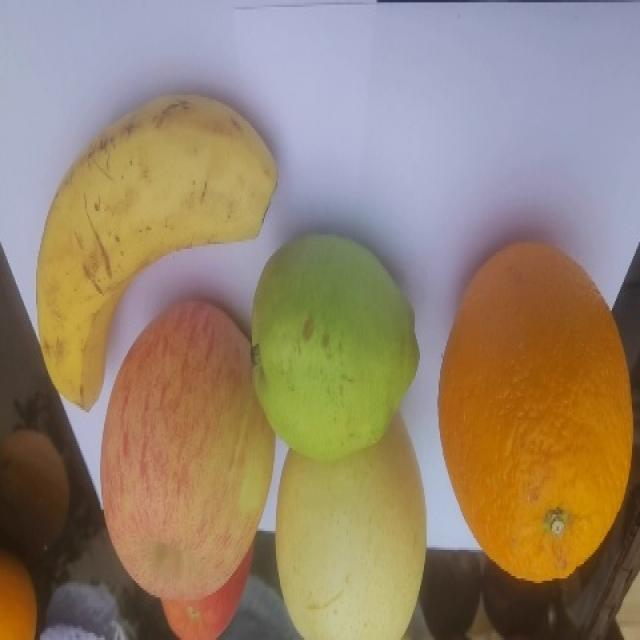Apple: (99, 297, 275, 600)
Banana: (34, 92, 278, 412)
Orange: (437, 239, 634, 583)
